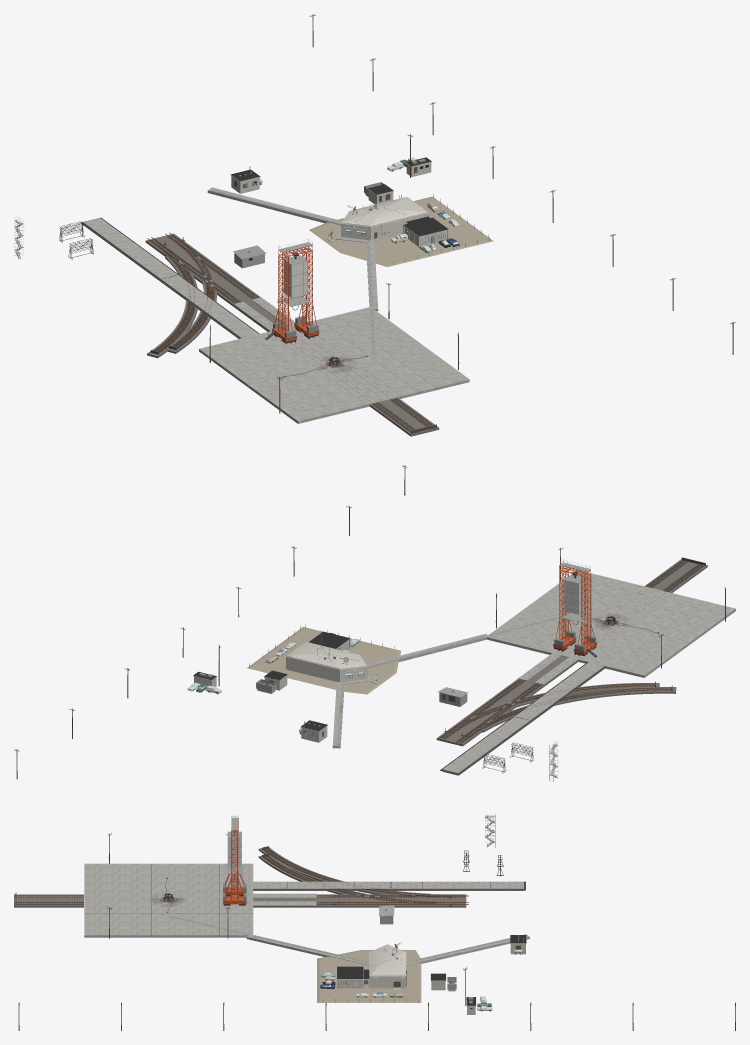
3 views of the same model, one above another, from view 1: azimuth 30°, elevation 25°; view 2: azimuth 150°, elevation 25°; view 3: azimuth 270°, elevation 25° (orthographic). The views are drawn at different scales.
Visible parts, largest first — view 1: Pad6_Concrete, Track_Ballast, Blockhouse_Shell, Track_Tie, Road_Concrete, Pad6Gantry_Red, Track_Rail, Blockhouse_BunkerRoof, CableTrenches_ConcreteTrench, Track_BallastSpur, Blockhouse_Bunker, Road_Joint (+2 smaller); view 2: Pad6_Concrete, Track_Ballast, Blockhouse_Shell, Track_Tie, Road_Concrete, Track_Rail, Pad6Gantry_Red, Track_BallastSpur, Blockhouse_Bunker, Blockhouse_BunkerRoof, CableTrenches_ConcreteTrench, Road_Joint (+2 smaller); view 3: Pad6_Concrete, Track_Ballast, Blockhouse_Shell, Road_Concrete, Track_Rail, Track_Tie, Track_BallastSpur, CableTrenches_ConcreteTrench, Blockhouse_BunkerRoof, Pad6Gantry_Red, Track_Concrete, Road_Joint (+5 smaller).
Boxes of the visible parts, <box> form: Pad6_Concrete: <box>199,307,469,423</box>; Track_Ballast: <box>145,233,439,436</box>; Blockhouse_Shell: <box>309,196,493,266</box>; Track_Tie: <box>148,234,437,433</box>; Road_Concrete: <box>83,218,258,337</box>; Pad6Gantry_Red: <box>272,245,319,341</box>; Track_Rail: <box>147,232,432,430</box>; Blockhouse_BunkerRoof: <box>342,197,427,225</box>; CableTrenches_ConcreteTrench: <box>207,187,378,311</box>; Track_BallastSpur: <box>147,256,216,358</box>; Blockhouse_Bunker: <box>341,197,429,240</box>; Road_Joint: <box>80,217,259,338</box>; Pad6_Concrete: <box>486,570,735,677</box>; Track_Ballast: <box>436,559,707,746</box>; Blockhouse_Shell: <box>247,627,401,694</box>; Track_Tie: <box>439,557,705,743</box>; Road_Concrete: <box>442,662,604,775</box>; Track_Rail: <box>438,560,703,744</box>; Pad6Gantry_Red: <box>553,565,596,654</box>; Track_BallastSpur: <box>482,683,676,732</box>; Blockhouse_Bunker: <box>286,642,367,682</box>; Blockhouse_BunkerRoof: <box>288,642,366,668</box>; CableTrenches_ConcreteTrench: <box>332,633,487,748</box>; Road_Joint: <box>440,662,606,775</box>; Pad6_Concrete: <box>84,863,253,937</box>; Track_Ballast: <box>14,894,466,907</box>; Blockhouse_Shell: <box>317,950,421,1002</box>; Road_Concrete: <box>253,881,523,890</box>; Track_Rail: <box>16,848,468,904</box>; Track_Tie: <box>14,846,464,906</box>; Track_BallastSpur: <box>258,847,430,894</box>; CableTrenches_ConcreteTrench: <box>246,934,529,965</box>; Blockhouse_BunkerRoof: <box>370,944,405,975</box>; Pad6Gantry_Red: <box>223,818,246,904</box>; Track_Concrete: <box>253,893,316,905</box>; Road_Joint: <box>253,881,525,890</box>.
Size of the model in its own units: 157 by 34.17 by 260.
64 materials, 17 textured.
